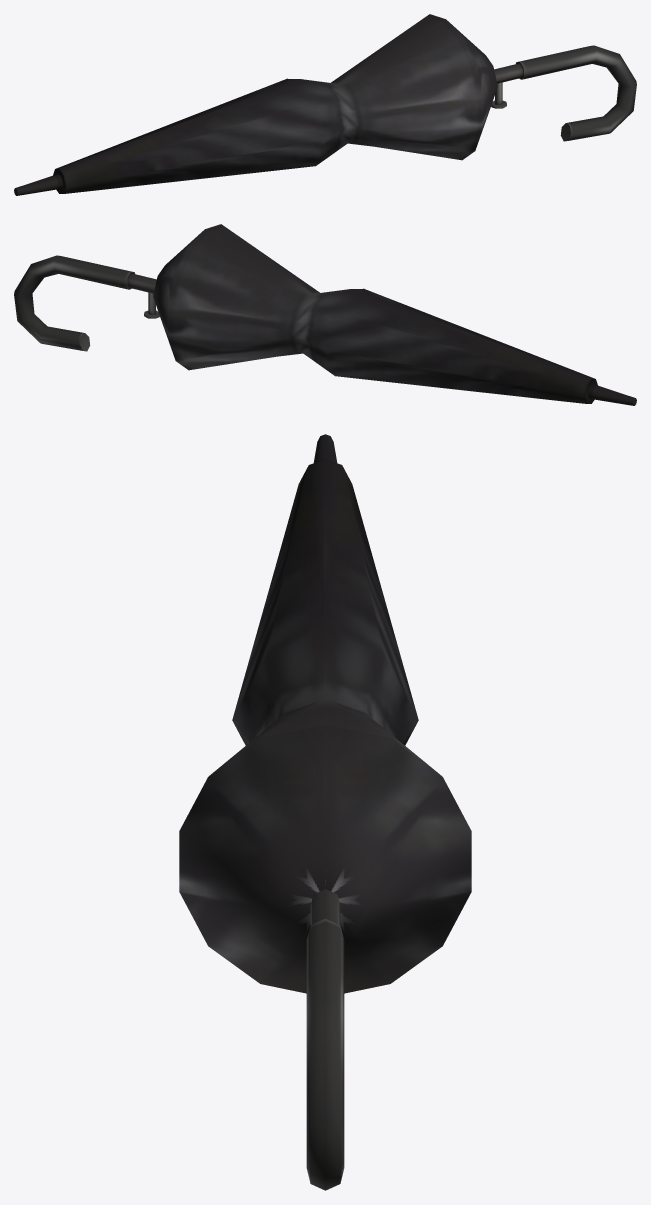
The model's file is TuShuGuan_01_yusan_01.FBX.
3 renders of one model, top to bottom at view 1: azimuth 30°, elevation 25°; view 2: azimuth 150°, elevation 25°; view 3: azimuth 270°, elevation 25°, orthographic. The views are drawn at different scales.
Parts seen in each view (by area): view 1: TuShuGuan_01_yusan_01; view 2: TuShuGuan_01_yusan_01; view 3: TuShuGuan_01_yusan_01.
Boxes of the visible parts, box(x1,y1,x2,y2) form: TuShuGuan_01_yusan_01: box(14, 14, 636, 195); TuShuGuan_01_yusan_01: box(14, 224, 636, 405); TuShuGuan_01_yusan_01: box(179, 434, 471, 1190).
Bounding box in the file's own units: 411 × 97.61 × 83.96.
